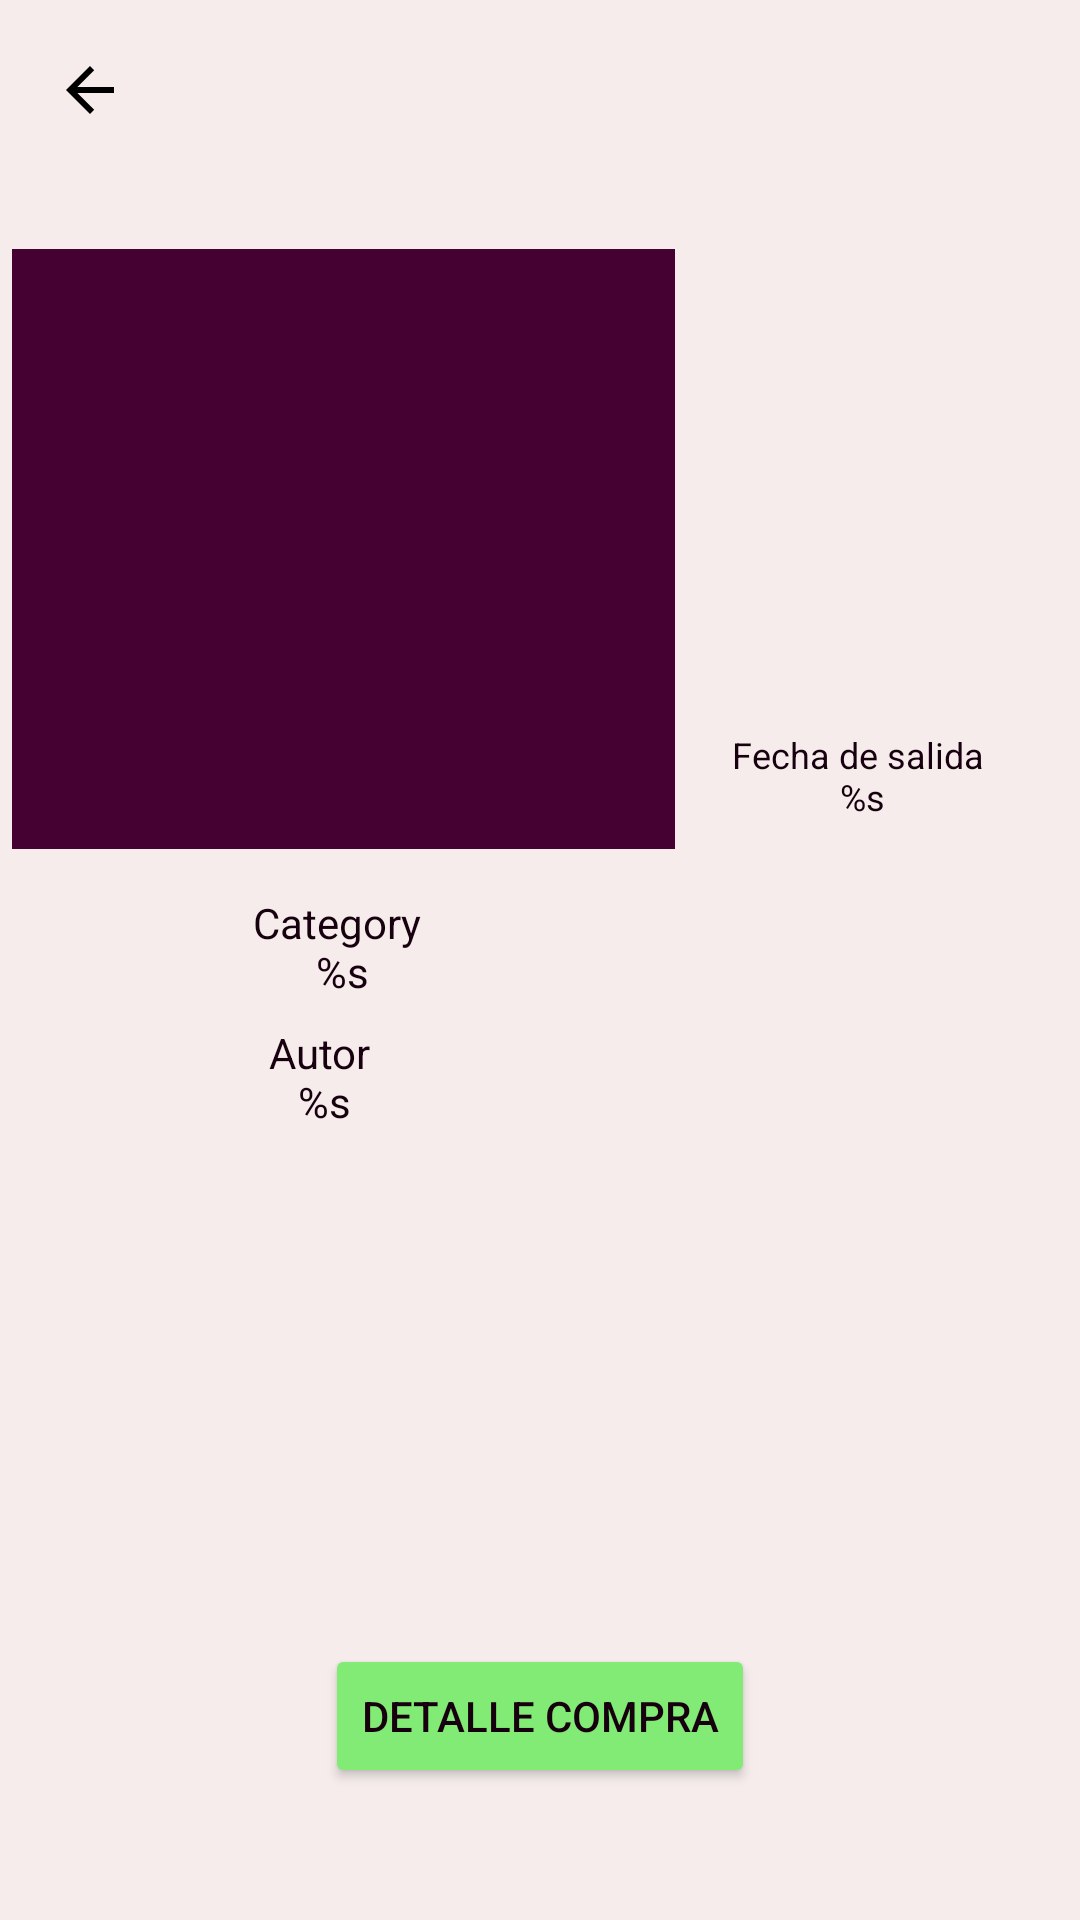

Icon click points for this 1080 x 1920 phone screenshot, format point (x, y):
Boton para volver: point (90, 90)
